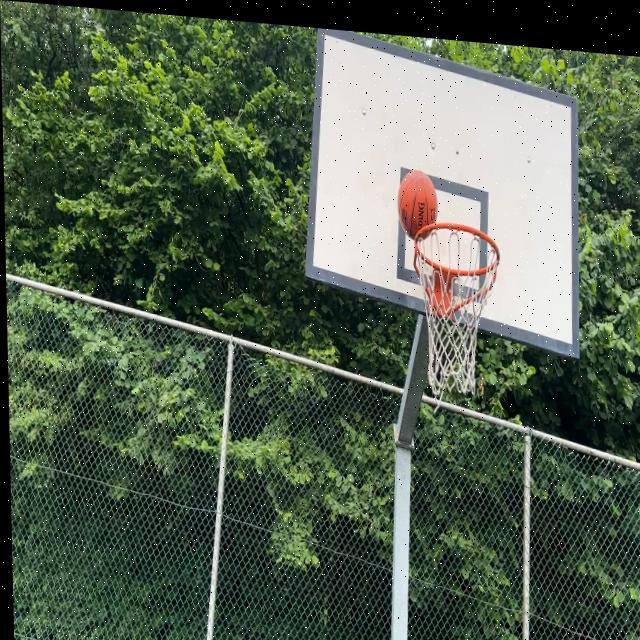rebound_hit: (398, 167, 441, 247)
